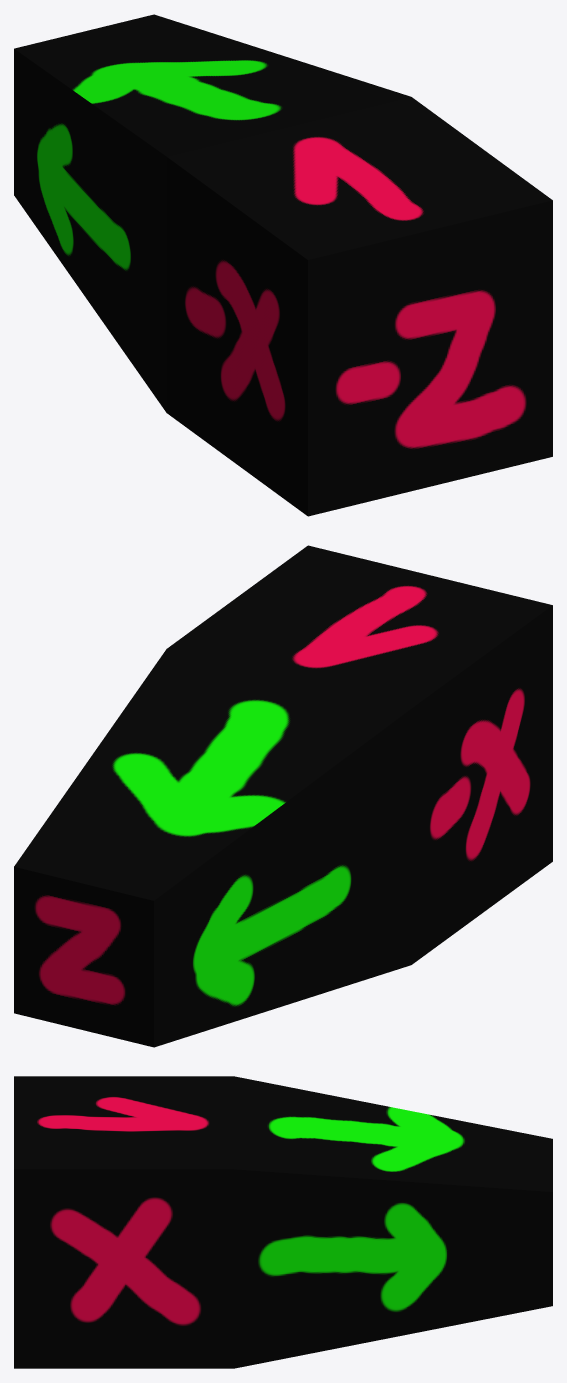
File: example1.fbx
3 renders of one model, top to bottom at view 1: azimuth 30°, elevation 25°; view 2: azimuth 150°, elevation 25°; view 3: azimuth 270°, elevation 25°, orthographic. The views are drawn at different scales.
Visible parts, largest first — view 1: Cube; view 2: Cube; view 3: Cube.
Part boxes in pixels (x1=…): Cube: x1=14, y1=14, x2=552, y2=516; Cube: x1=14, y1=545, x2=552, y2=1047; Cube: x1=14, y1=1076, x2=552, y2=1368.
Bounding box in the file's own units: 200 × 200 × 490.
Materials: 1 (1 with a texture image).
